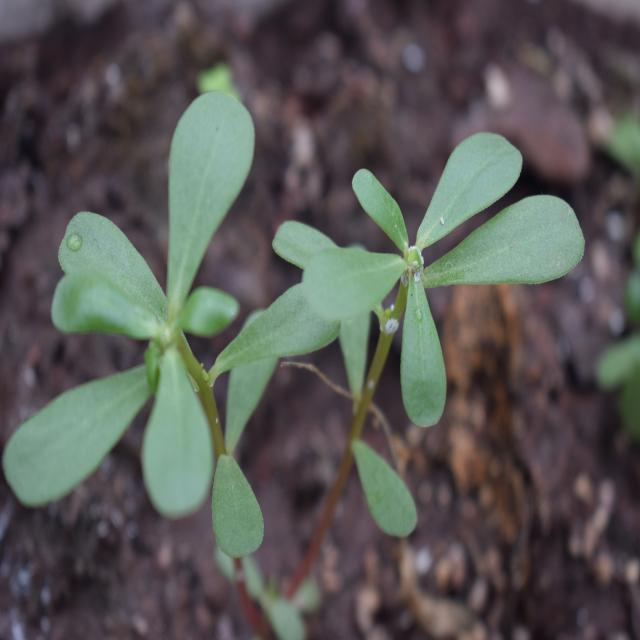purslane: (30, 77, 575, 537)
